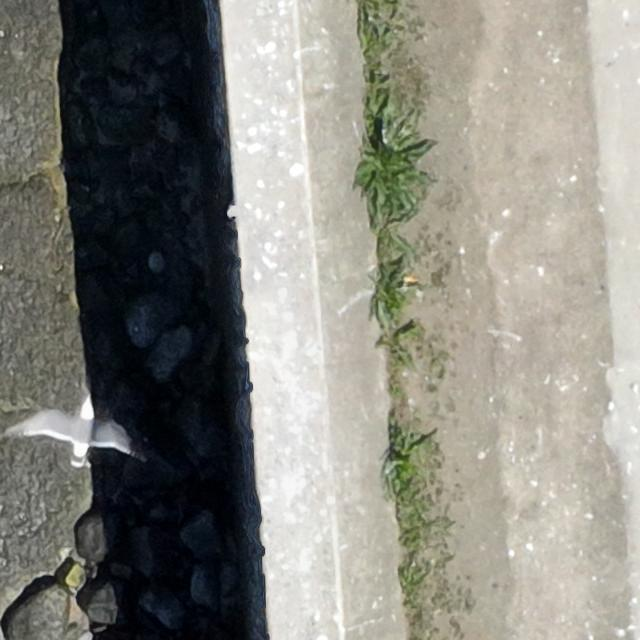F: (12, 397, 132, 464)
